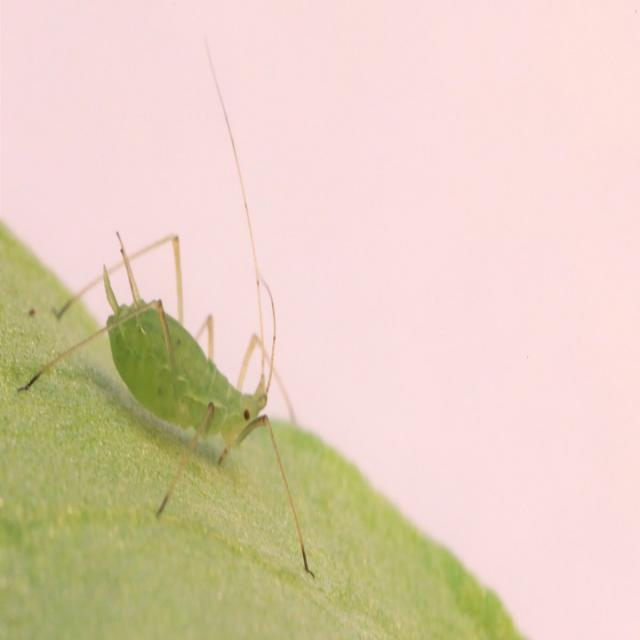Aphid-Grown-: (74, 223, 329, 513)
